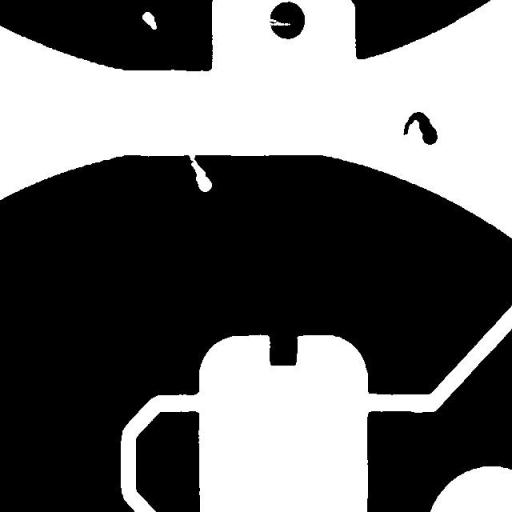copper: (395, 104, 445, 152)
mousebite: (182, 146, 219, 199), (258, 10, 298, 33)
pin-hole: (134, 4, 164, 37)
